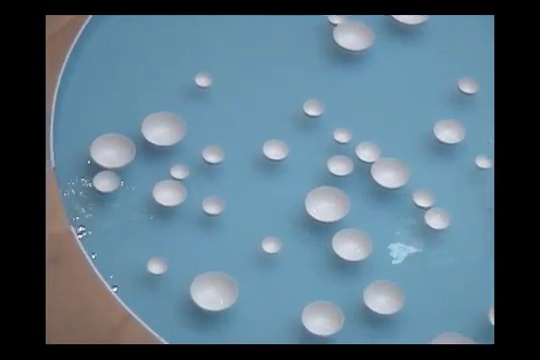bowl: (189, 269, 239, 313), (302, 184, 351, 223), (298, 299, 348, 337), (88, 131, 136, 170), (360, 278, 408, 316), (138, 110, 187, 146), (329, 226, 374, 262), (331, 20, 379, 52), (370, 155, 410, 190), (431, 115, 469, 145), (151, 179, 189, 208), (92, 169, 125, 196), (427, 328, 476, 345), (422, 204, 452, 230), (261, 136, 291, 162), (354, 139, 384, 164), (326, 152, 355, 177), (200, 193, 228, 217), (456, 73, 483, 97), (388, 12, 433, 26), (200, 144, 227, 165), (302, 96, 326, 119), (146, 256, 171, 278), (411, 187, 437, 208), (260, 234, 284, 256), (168, 161, 191, 179), (192, 70, 212, 90), (473, 152, 494, 171), (332, 126, 354, 144), (326, 12, 352, 26), (487, 304, 496, 328)
